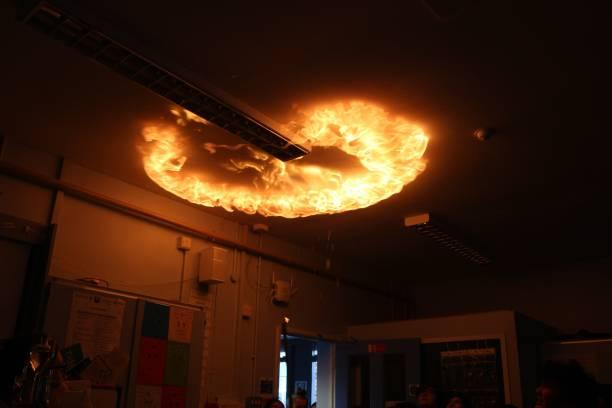Fire: (100, 69, 466, 227)
